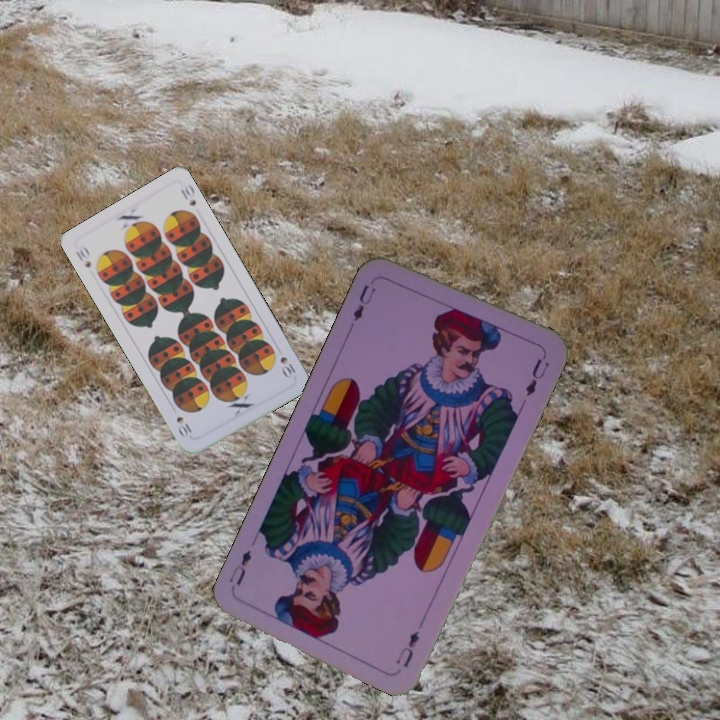EU: (392, 626, 422, 670), (349, 280, 378, 324)
S10: (276, 352, 298, 381), (72, 242, 94, 270)
